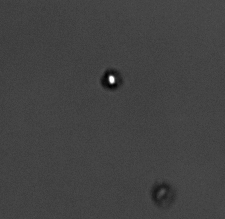Dead Cell: (151, 183, 177, 208)
Living Cell: (101, 68, 121, 91)
